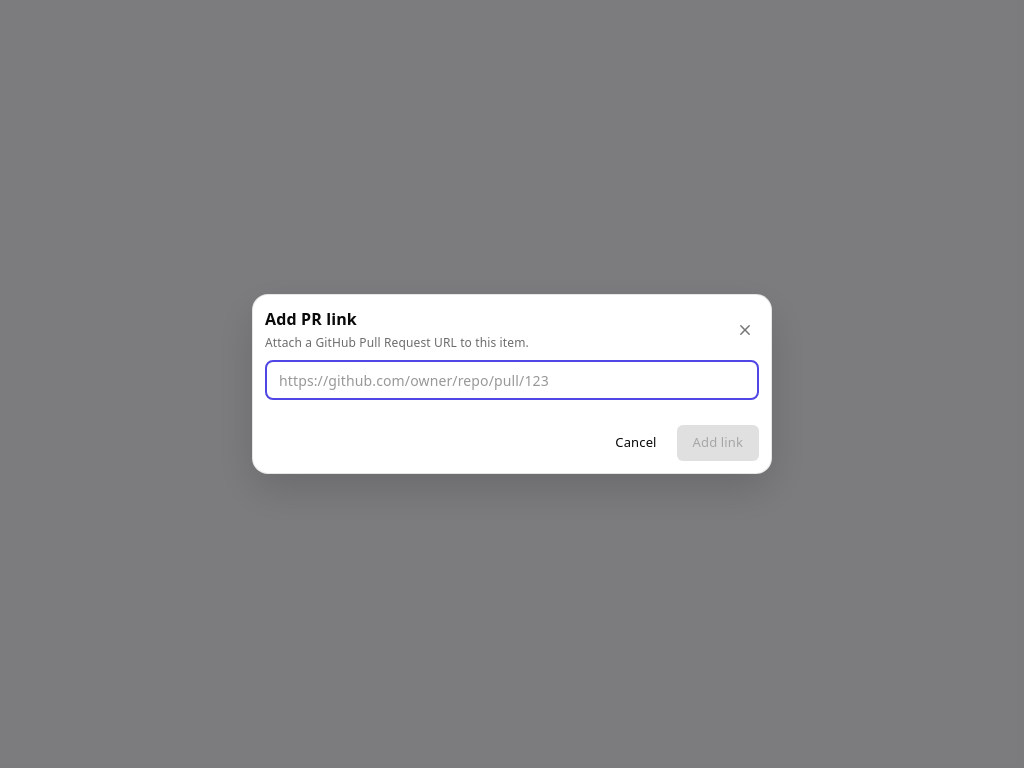
Test: AddPrLinkDialog › API error from the server is shown inline
Type "https://github.com/foo/bar/pull/42" into the field named "GitHub PR URL" at (512, 380), box [265,360,759,400]
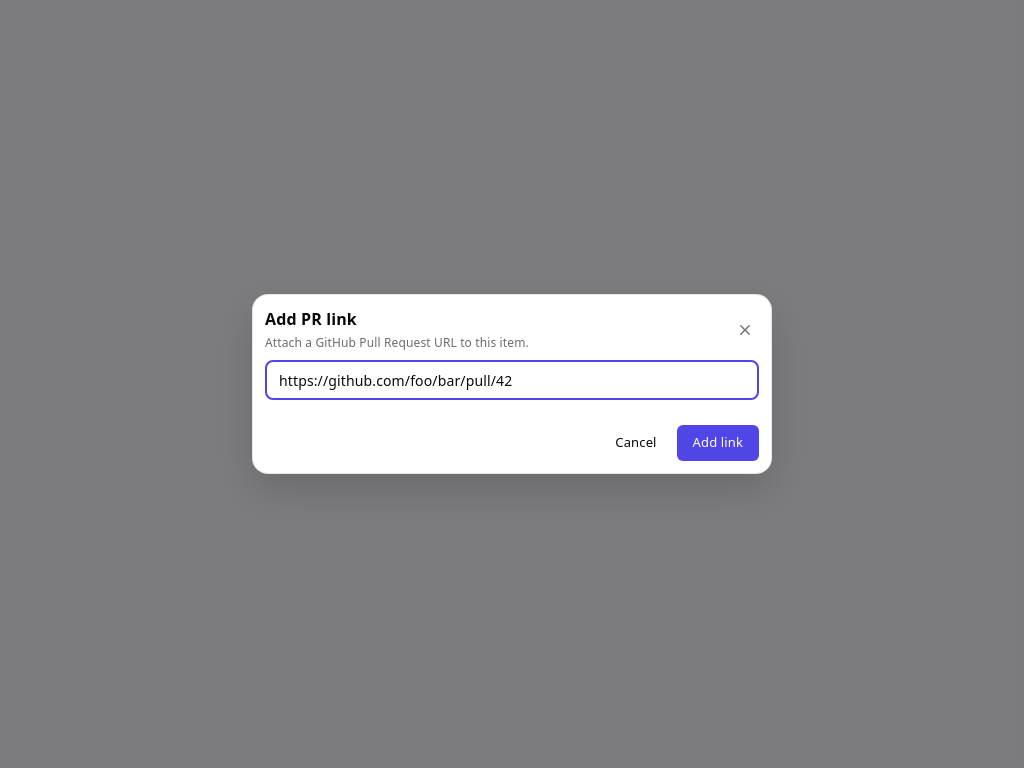
Click the button "Add link" at (718, 443), box [677,425,759,461]
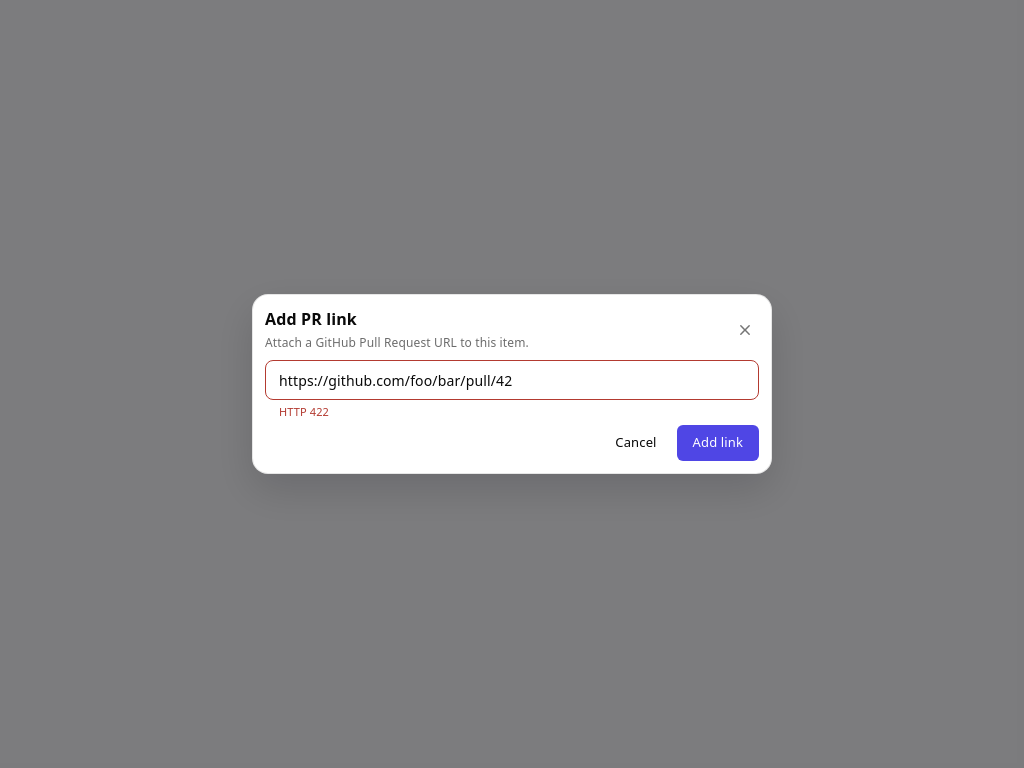
Result: the text "HTTP 422" is shown at [279,404,329,419]
